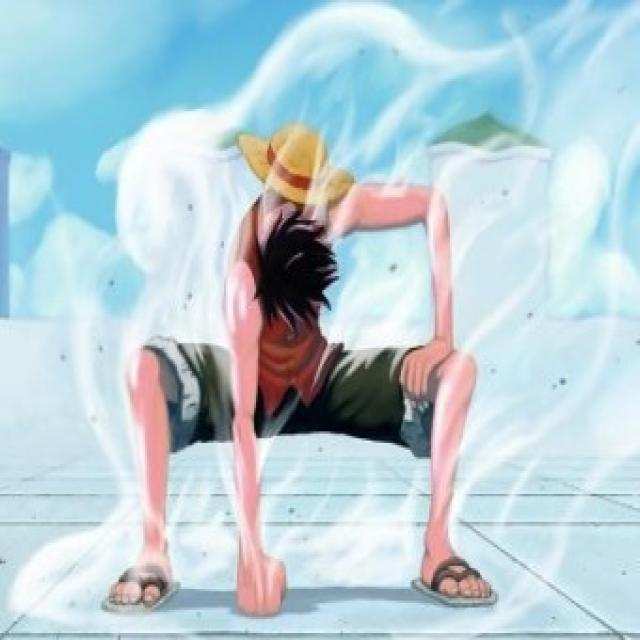Luffy: (215, 124, 369, 343)
